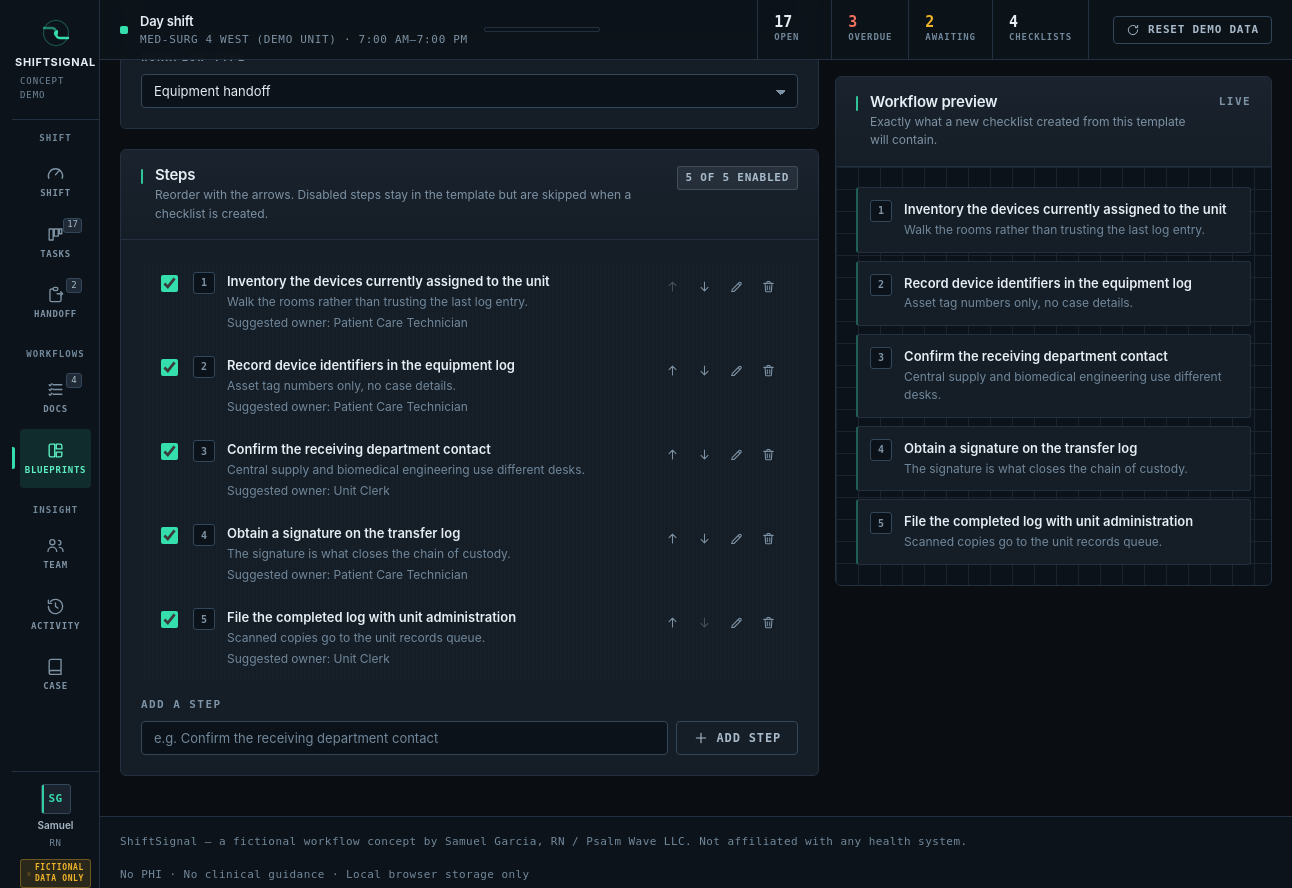
Template workflows › adds a step with validation
(page scrolled)
Expected: the text "5 of 5 enabled" is shown, x1=676 y1=166 x2=798 y2=190
Click the button "Add step" at coordinates (737, 738), box x1=676 y1=721 x2=798 y2=755
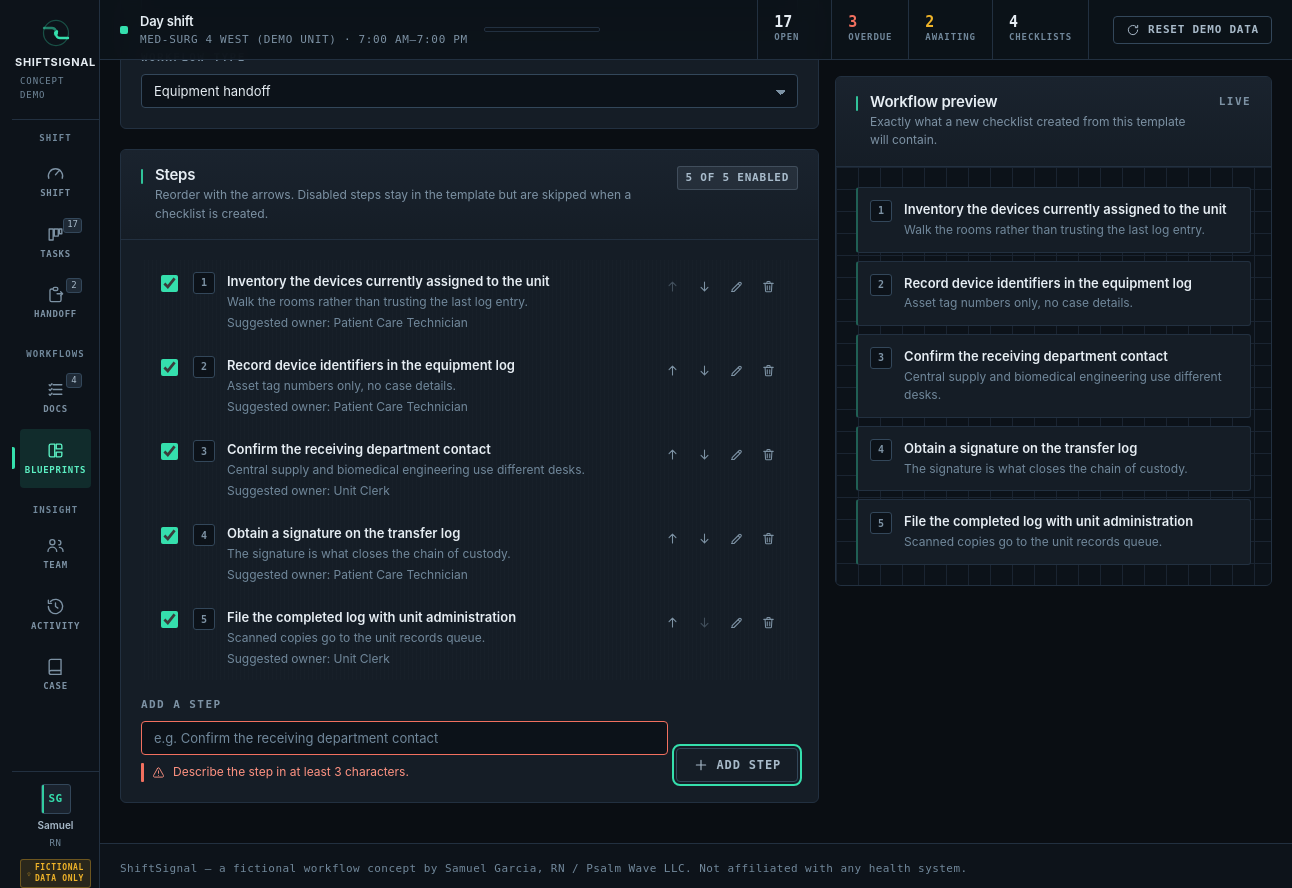
Expected: the text "Describe the step in at least 3 characters." is shown, x1=152 y1=764 x2=409 y2=779
Type "Confirm the loading dock contact" into the field labelled "Add a step" at coordinates (404, 738), box x1=141 y1=721 x2=668 y2=755
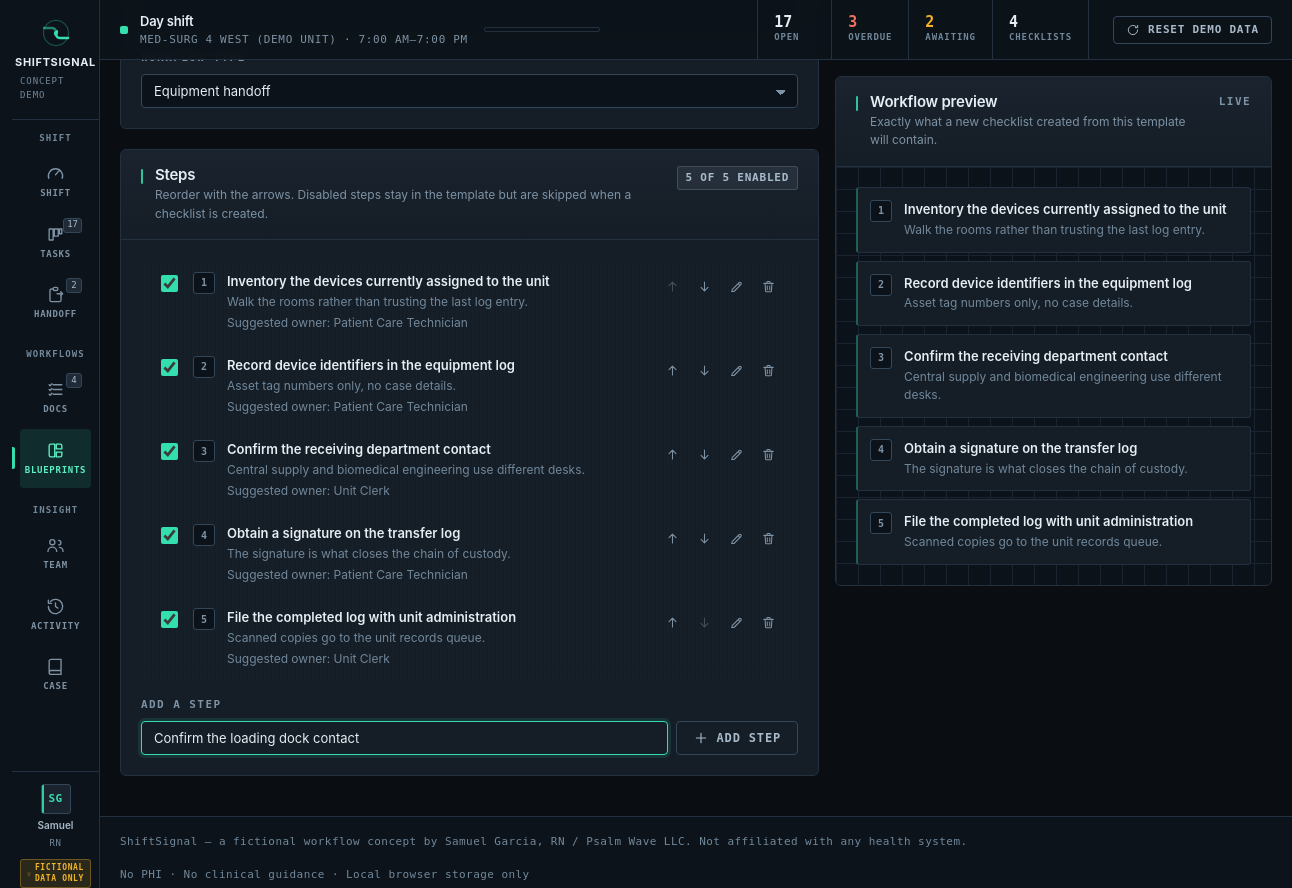
Click the button "Add step" at coordinates (737, 738), box x1=676 y1=721 x2=798 y2=755
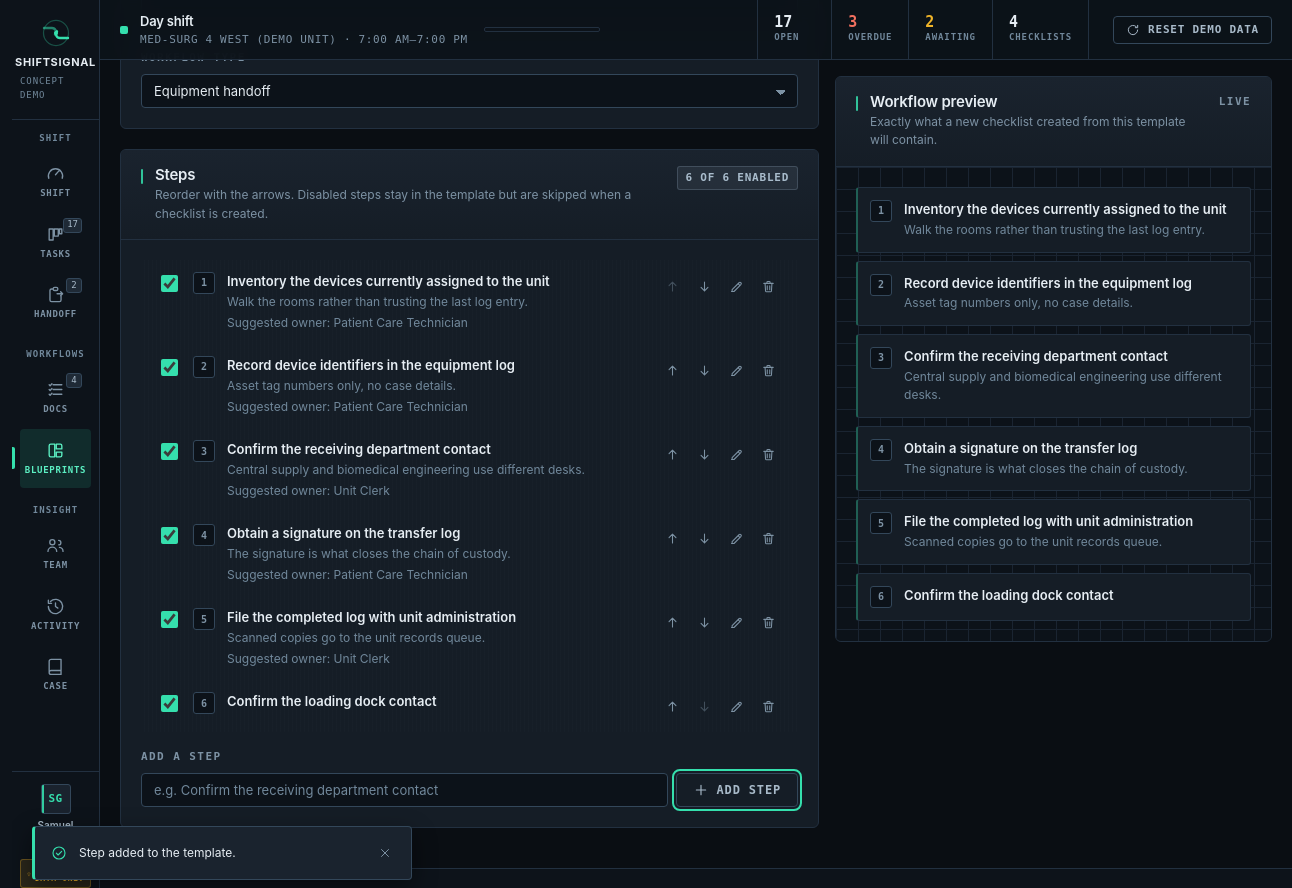
Expected: the text "6 of 6 enabled" is shown, x1=676 y1=166 x2=798 y2=190
Expected: the 2nd text "Confirm the loading dock contact" is shown, x1=227 y1=693 x2=437 y2=709
